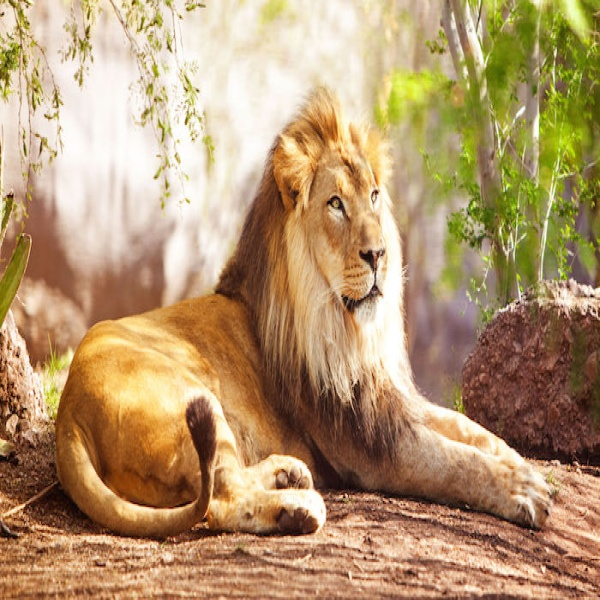Lion: (49, 83, 557, 540)
